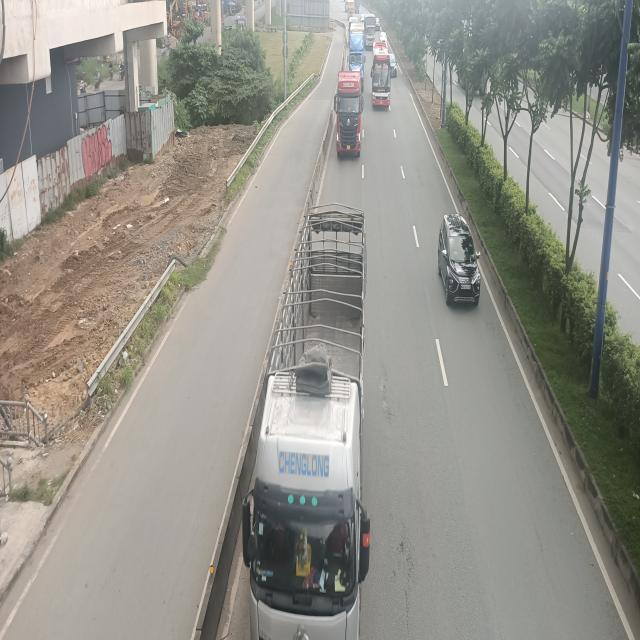car: (440, 212, 484, 306)
coach: (370, 44, 392, 110)
container: (334, 70, 364, 156)
truck: (237, 198, 367, 640)
